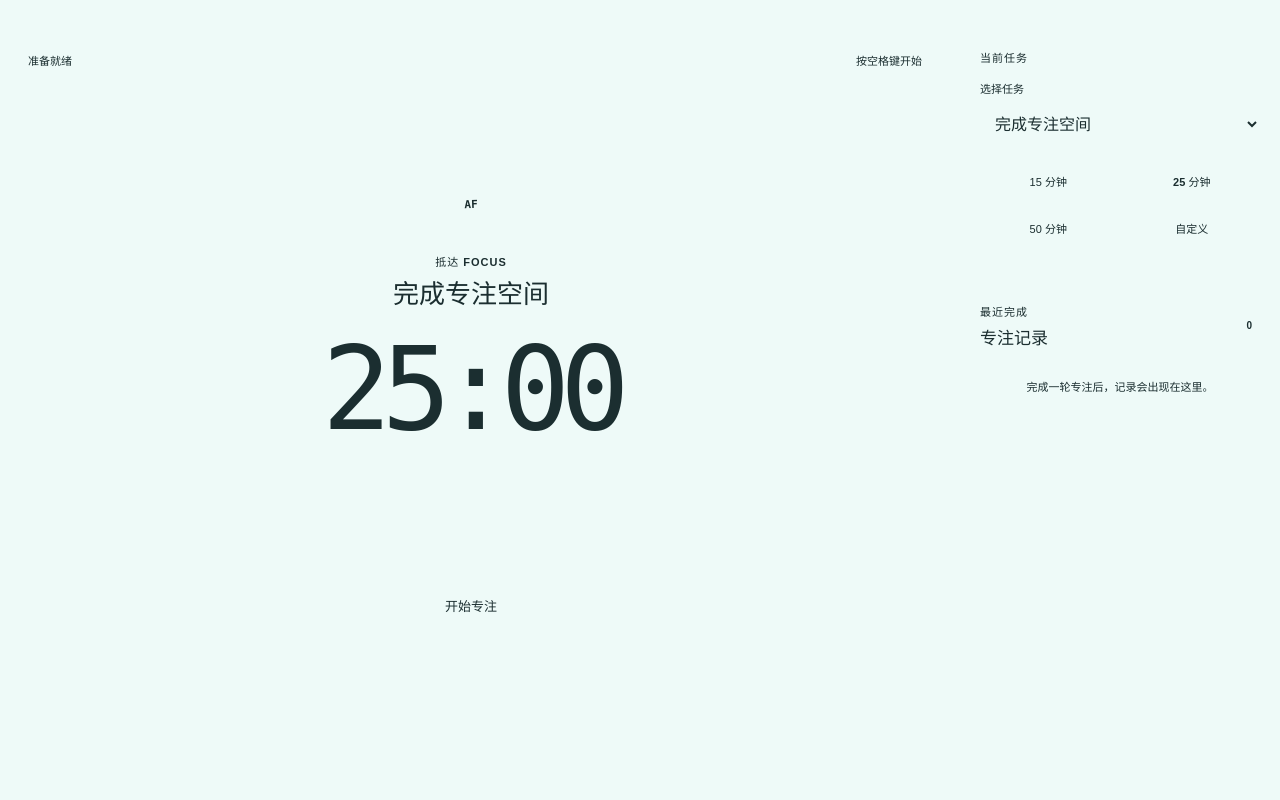
Test: FocusWorkspace › selects duration and transitions through running and paused states
expect the text named "剩余时间 25:00" is shown: met, box [322,338,620,442]
Click the button "15 分钟" at [1048, 181], box [980,161,1116,201]
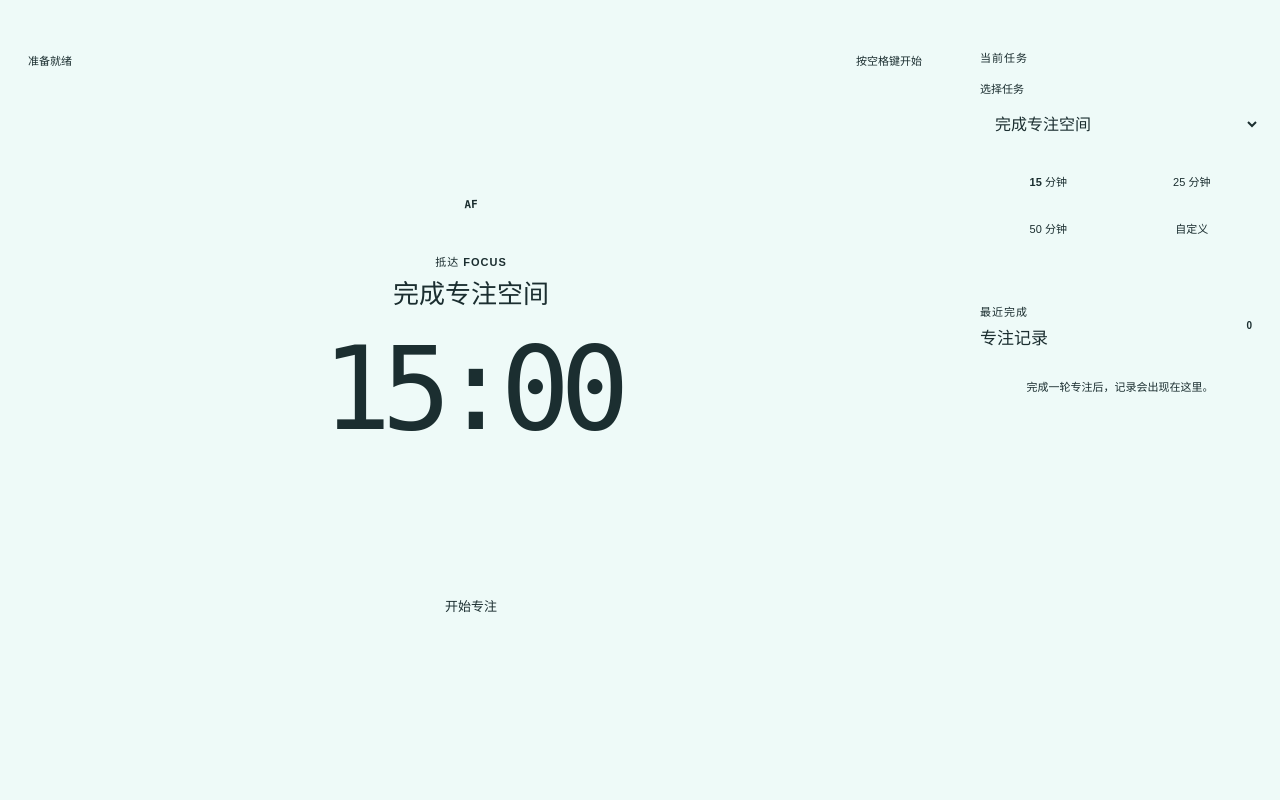
expect the text named "剩余时间 15:00" is shown: met, box [322,338,620,442]
Click the button "开始专注" at [471, 606], box [413,584,529,628]
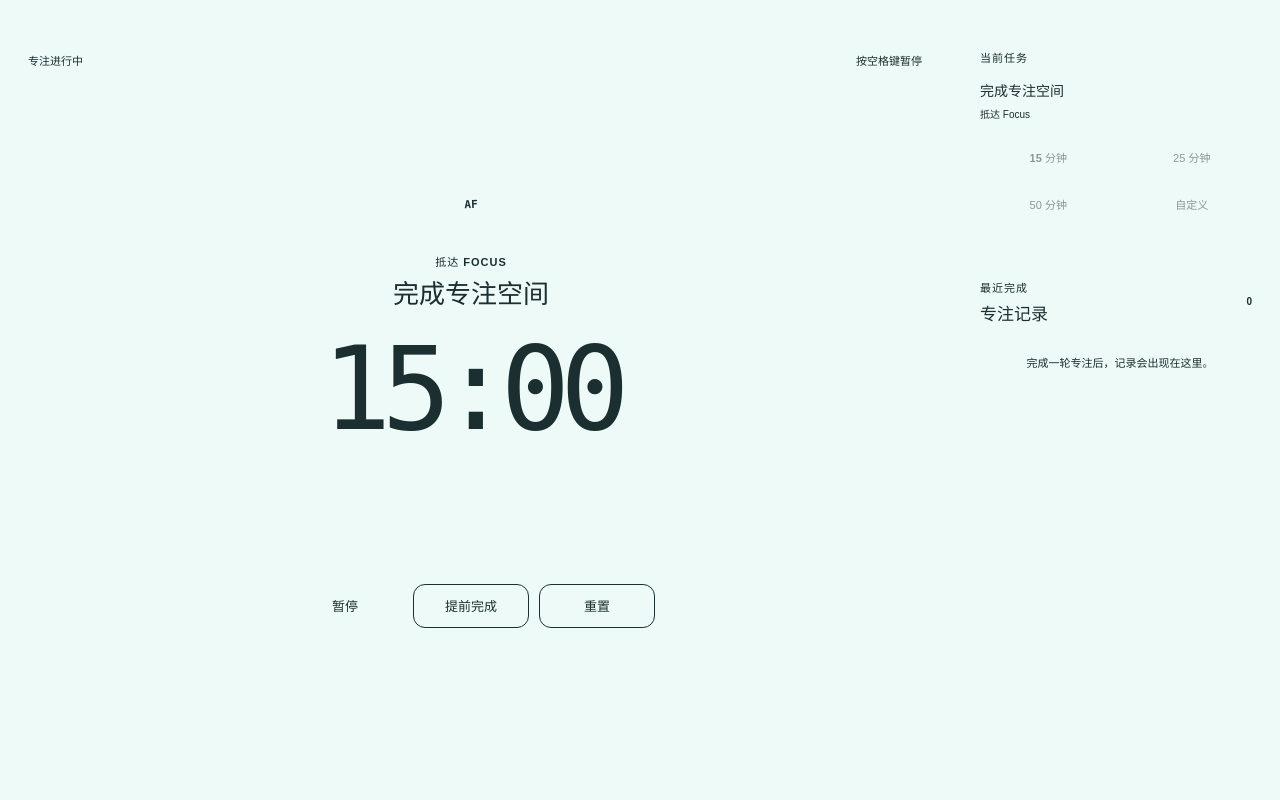
expect the button "暂停" is enabled: met, box [287,584,403,628]
expect the text "专注进行中" is shown: met, box [28,54,83,66]
Press Space
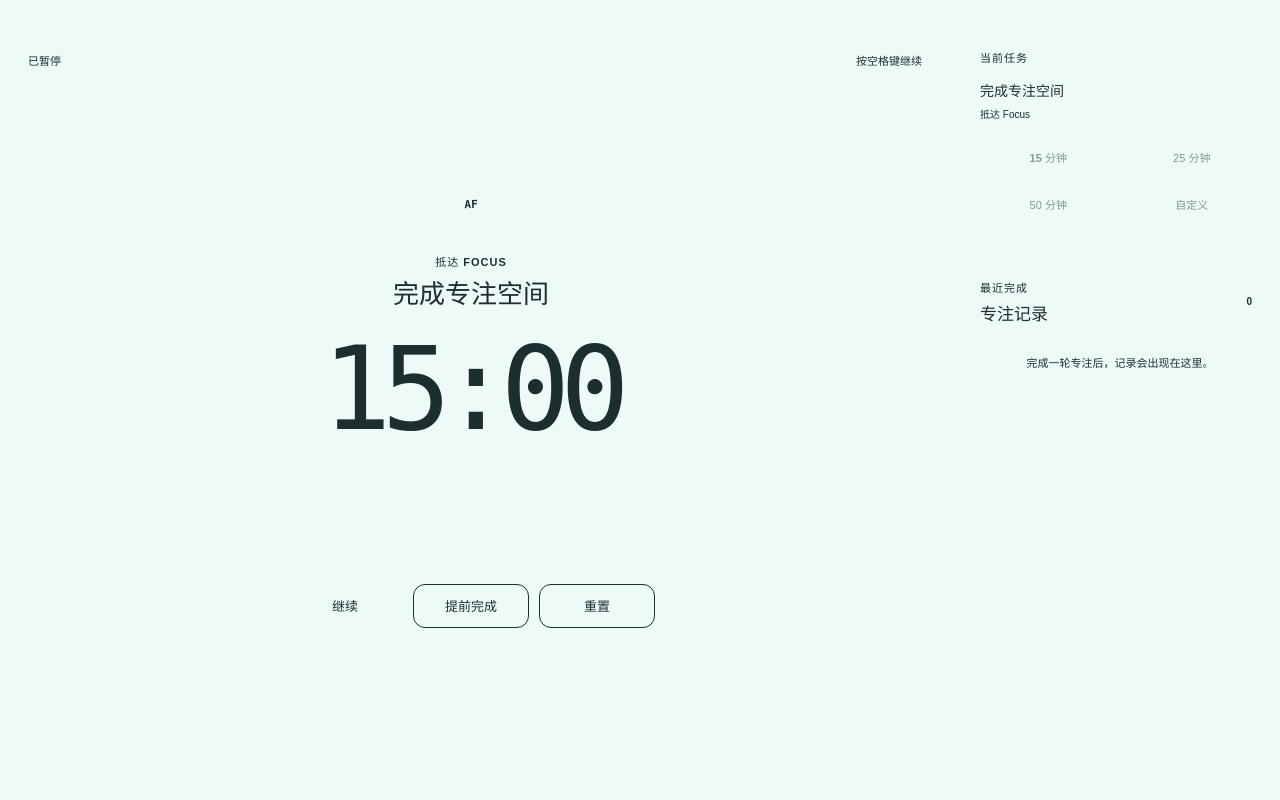
expect the text "已暂停" is shown: met, box [28,54,61,66]
Click the button "继续" at [345, 606], box [287,584,403,628]
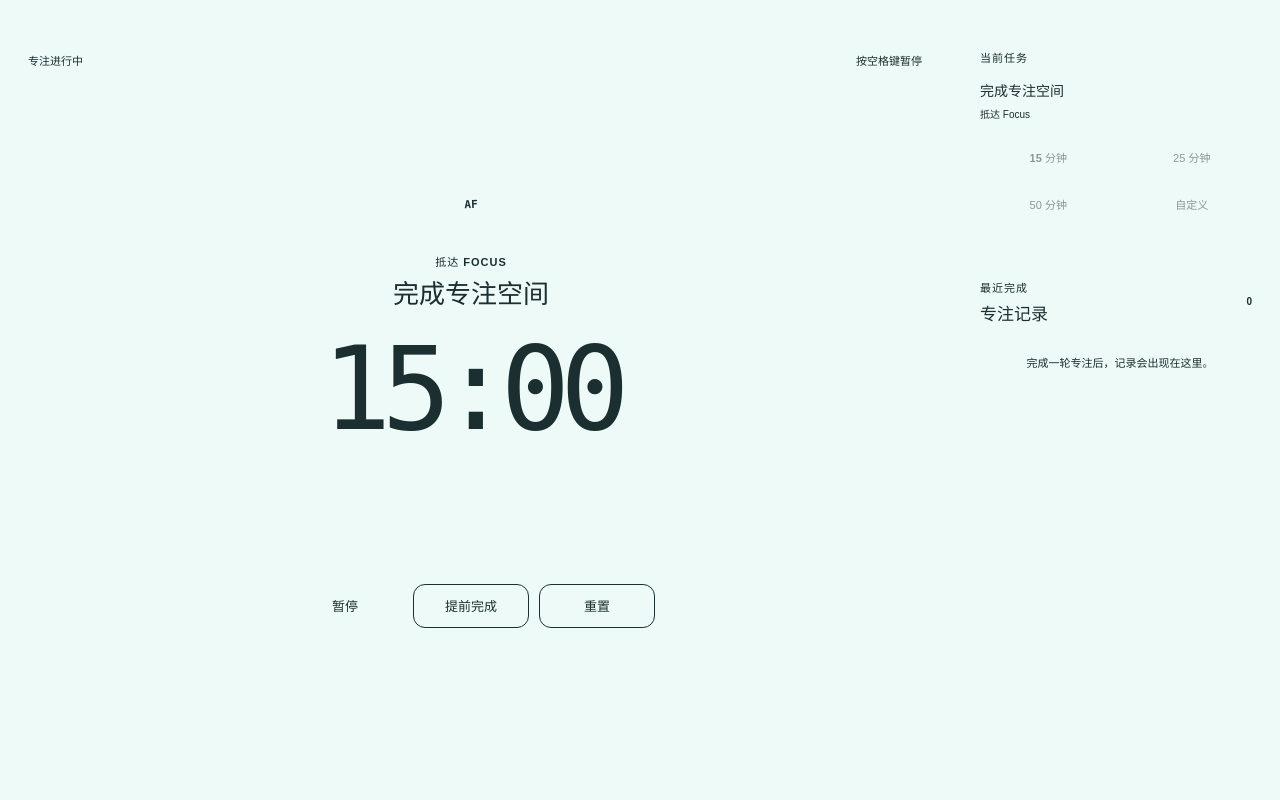
expect the text "专注进行中" is shown: met, box [28,54,83,66]
